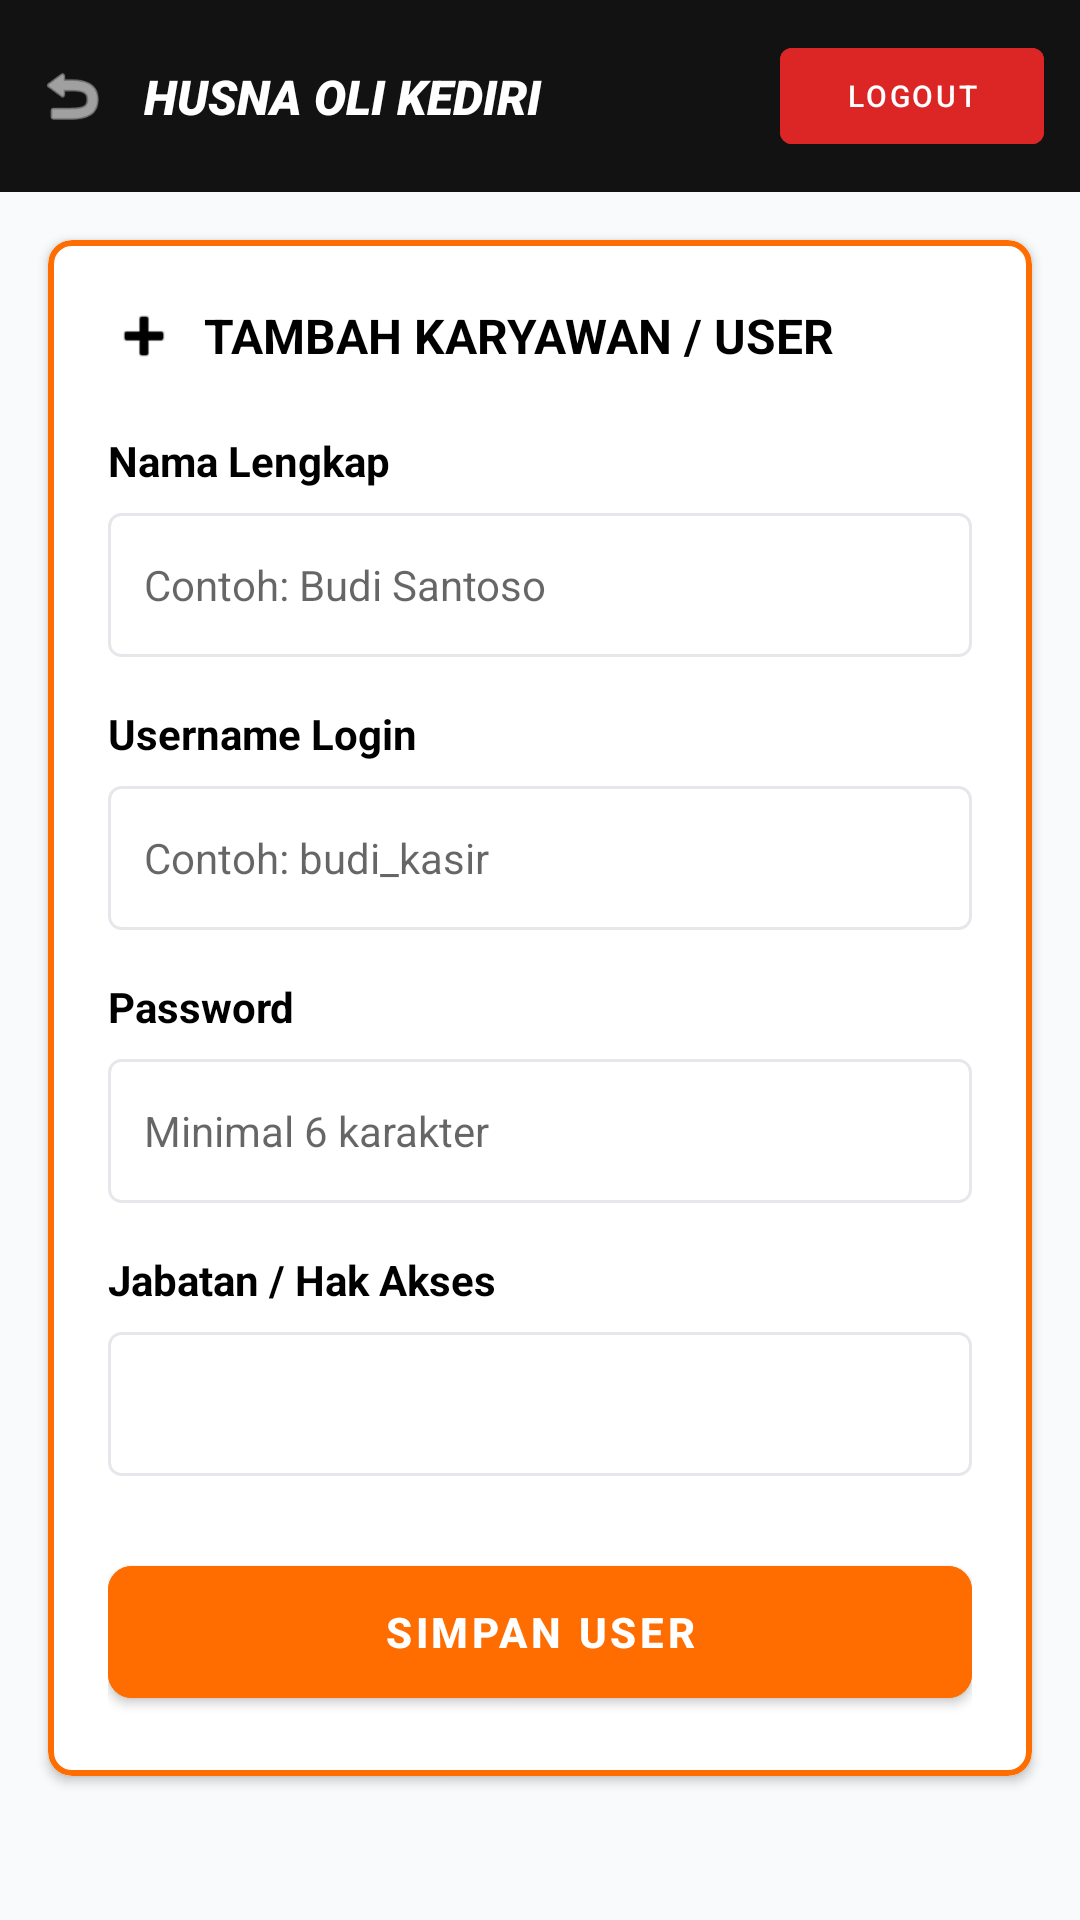

Screen size 1080*1920. Icon name, then its box in pixels as (x1, y1, x2, y2):
add: (123, 316, 165, 356)
revert: (47, 73, 99, 120)
